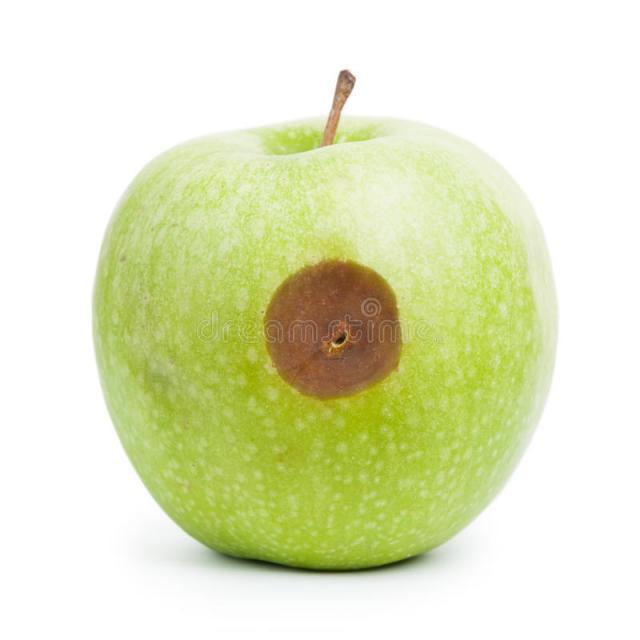Rotten: (117, 132, 555, 542)
